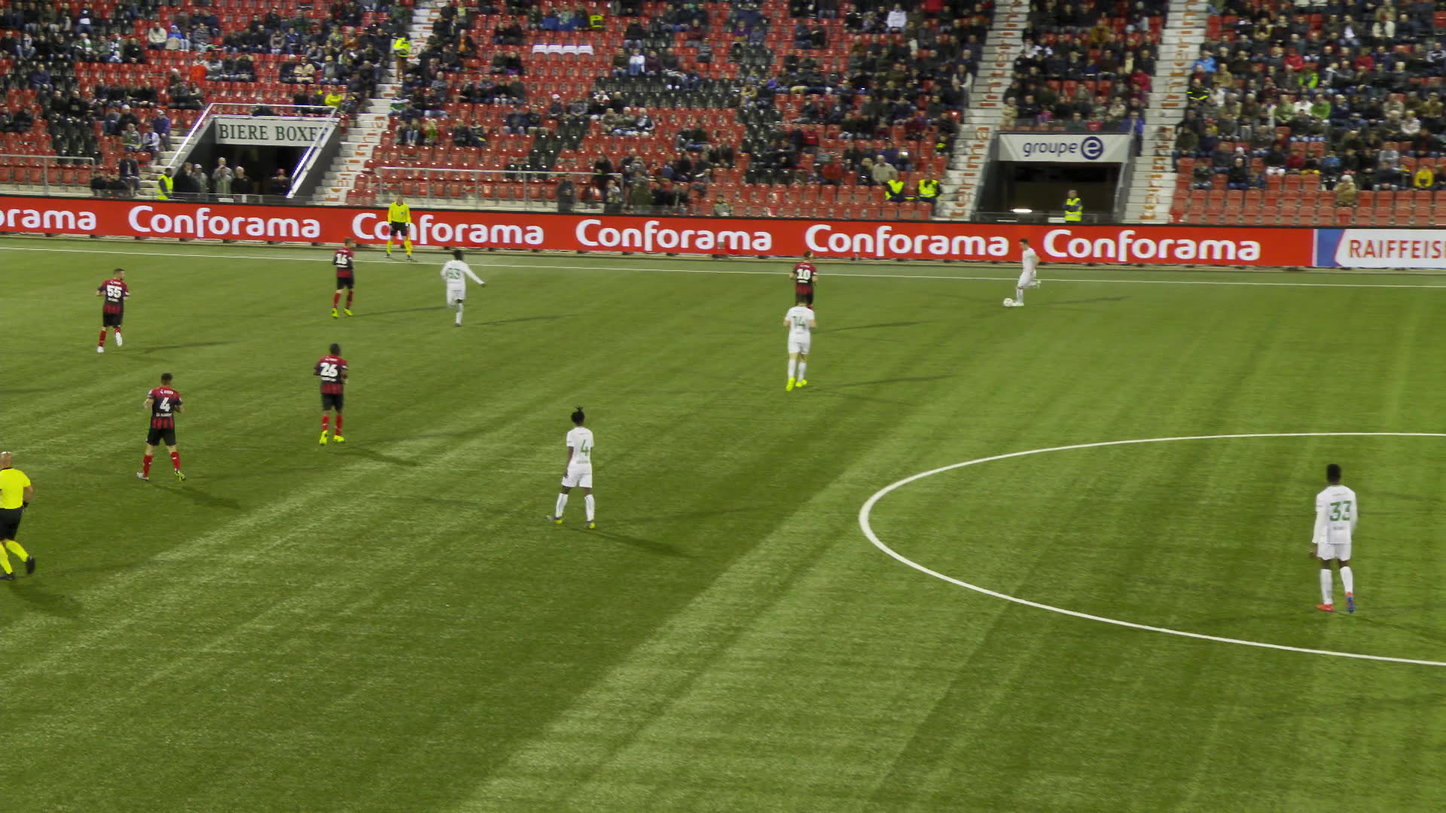ball: (1004, 297, 1013, 305)
player: (1308, 461, 1357, 614), (545, 405, 595, 530), (138, 372, 186, 481), (312, 343, 348, 446), (440, 249, 486, 326), (783, 294, 817, 390), (95, 267, 130, 353), (331, 238, 356, 317), (1012, 238, 1040, 307), (789, 250, 817, 307)
referee: (0, 451, 35, 578), (383, 193, 412, 259)
